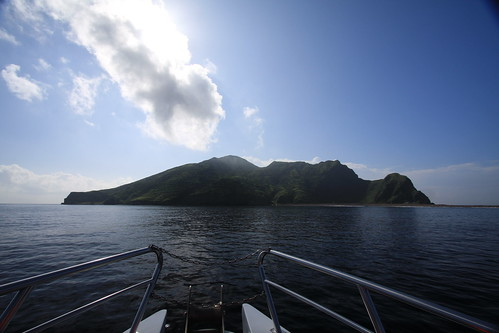turtleIsland: (69, 152, 430, 208)
